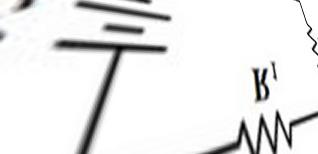resistor: (225, 104, 303, 151)
